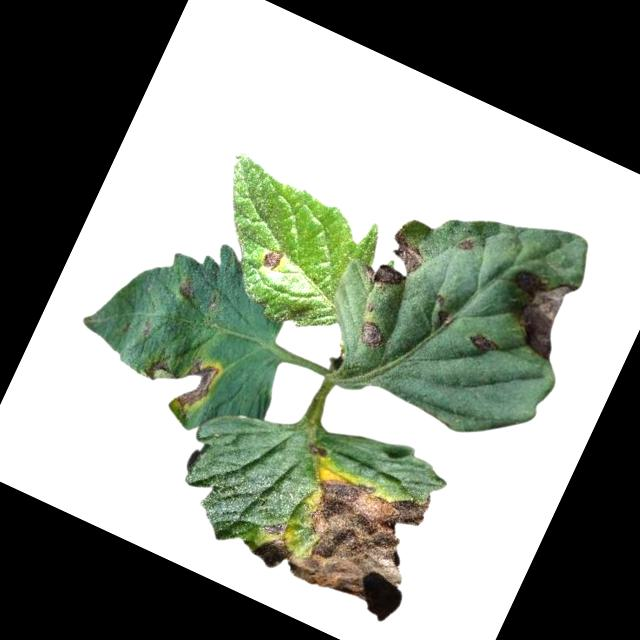Early_blight: (244, 436, 450, 627), (486, 260, 584, 366), (131, 335, 224, 424), (356, 224, 430, 303), (424, 291, 461, 329), (350, 318, 388, 353), (465, 330, 499, 361), (260, 247, 285, 273), (173, 278, 197, 302), (455, 236, 474, 256)
